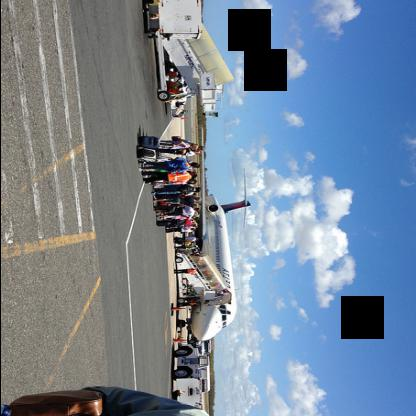backpack: (153, 205, 175, 213), (178, 184, 195, 192), (173, 219, 185, 227)
handbag: (6, 387, 104, 416), (149, 179, 169, 186), (168, 168, 187, 175), (170, 137, 180, 141), (184, 210, 190, 213)
suitcase: (137, 136, 173, 148), (136, 146, 156, 161), (155, 220, 169, 226), (157, 202, 171, 208), (173, 238, 181, 241)
